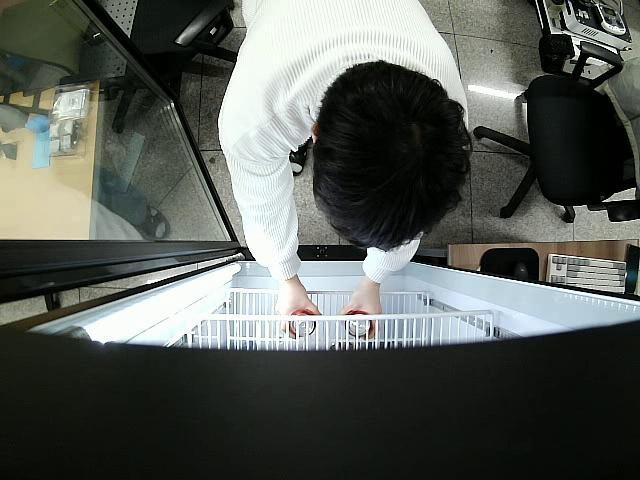11_cocaColaZero: (344, 310, 373, 338), (289, 310, 315, 338)
